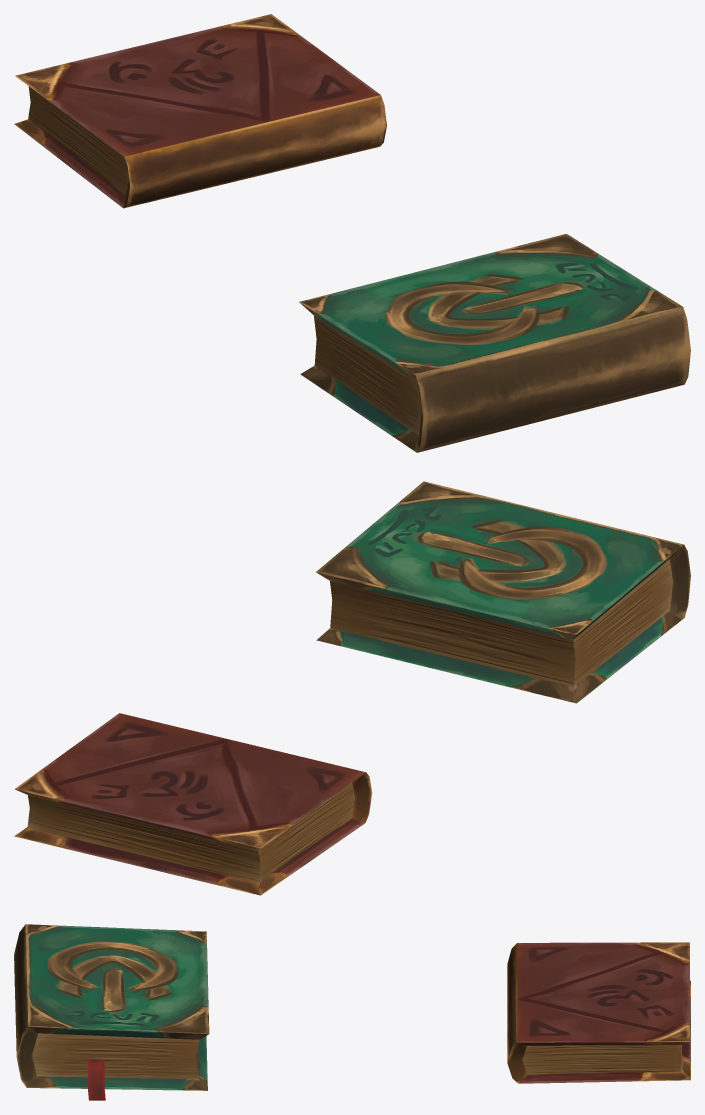
Rendered from books.fbx.
The picture shows the model from 3 angles, top to bottom: view 1: azimuth 30°, elevation 25°; view 2: azimuth 150°, elevation 25°; view 3: azimuth 270°, elevation 25°; orthographic projection. The views are drawn at different scales.
Parts seen in each view (by area): view 1: Book_Big, Book_Small; view 2: Book_Big, Book_Small; view 3: Book_Big, Book_Small.
Boxes of the visible parts, x1,y1,x2,y2 form: Book_Big: (299, 233, 690, 452); Book_Small: (14, 14, 386, 208); Book_Big: (316, 481, 690, 703); Book_Small: (14, 713, 372, 895); Book_Big: (14, 924, 209, 1100); Book_Small: (507, 942, 690, 1083).
Size of the model in its own units: 0.2703 by 0.0715 by 0.6681.
